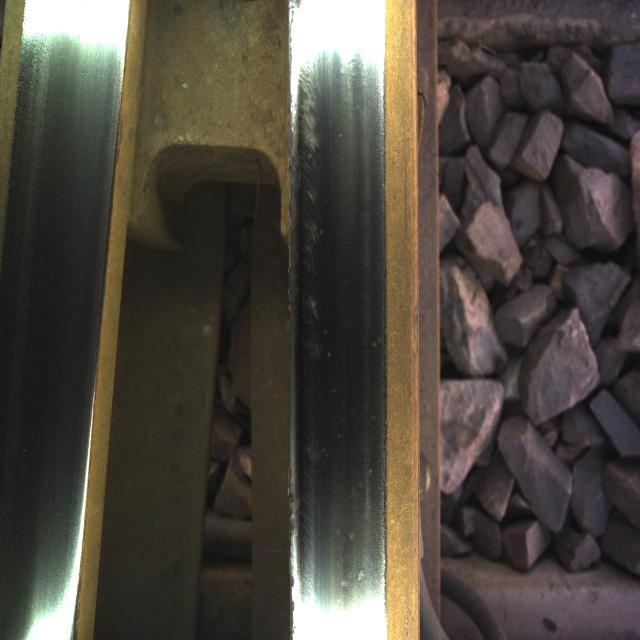normal: (295, 34, 371, 541)
